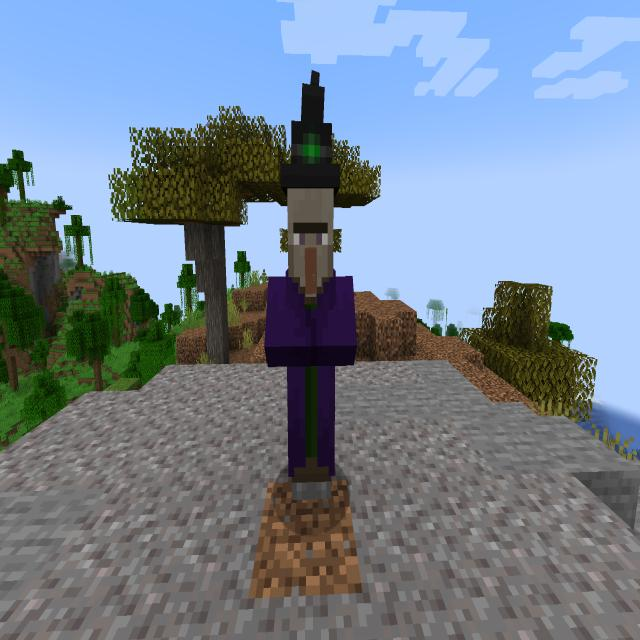Witch: (248, 50, 364, 538)
